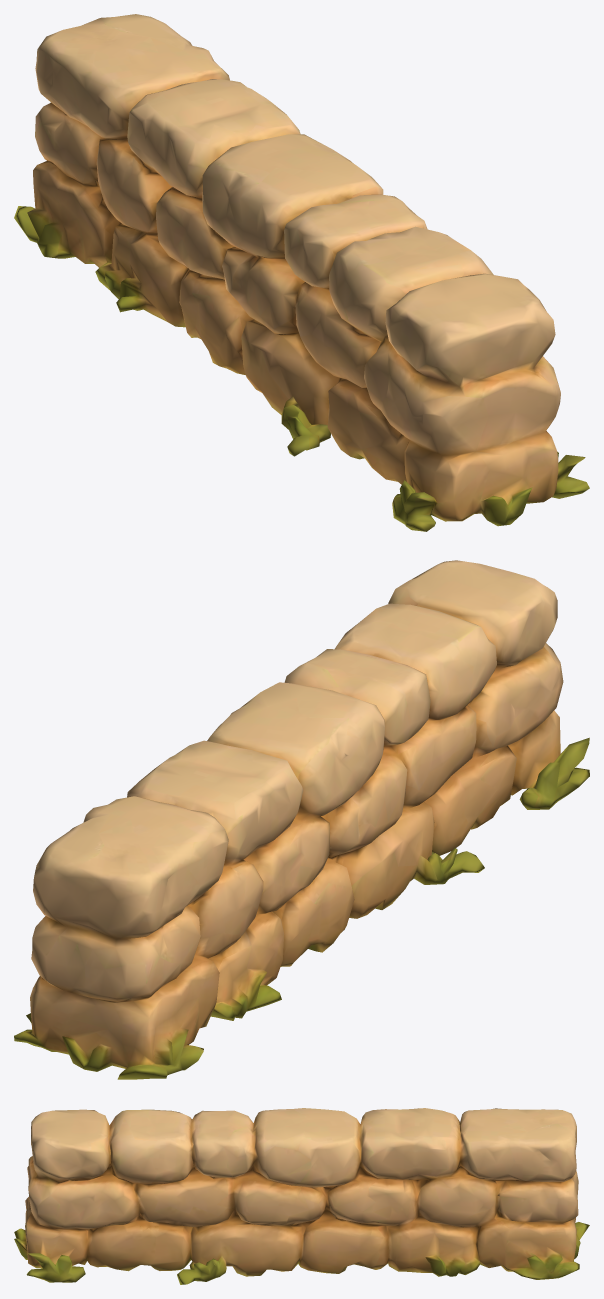
Rendered from drywall.glb.
3 views of the same model, one above another, from view 1: azimuth 30°, elevation 25°; view 2: azimuth 150°, elevation 25°; view 3: azimuth 270°, elevation 25° (orthographic). The views are drawn at different scales.
Parts seen in each view (by area): view 1: tripo_node_6aa5811a-1a1d-4ced-9891-bbc7d9ebcc10; view 2: tripo_node_6aa5811a-1a1d-4ced-9891-bbc7d9ebcc10; view 3: tripo_node_6aa5811a-1a1d-4ced-9891-bbc7d9ebcc10.
Part boxes in pixels (x1,y1,x2,y2): tripo_node_6aa5811a-1a1d-4ced-9891-bbc7d9ebcc10: (14, 14, 589, 531); tripo_node_6aa5811a-1a1d-4ced-9891-bbc7d9ebcc10: (14, 560, 589, 1079); tripo_node_6aa5811a-1a1d-4ced-9891-bbc7d9ebcc10: (14, 1108, 589, 1284).
Size of the model in its own units: 0.2525 by 0.2637 by 1.
Materials: 1 (1 with a texture image).
